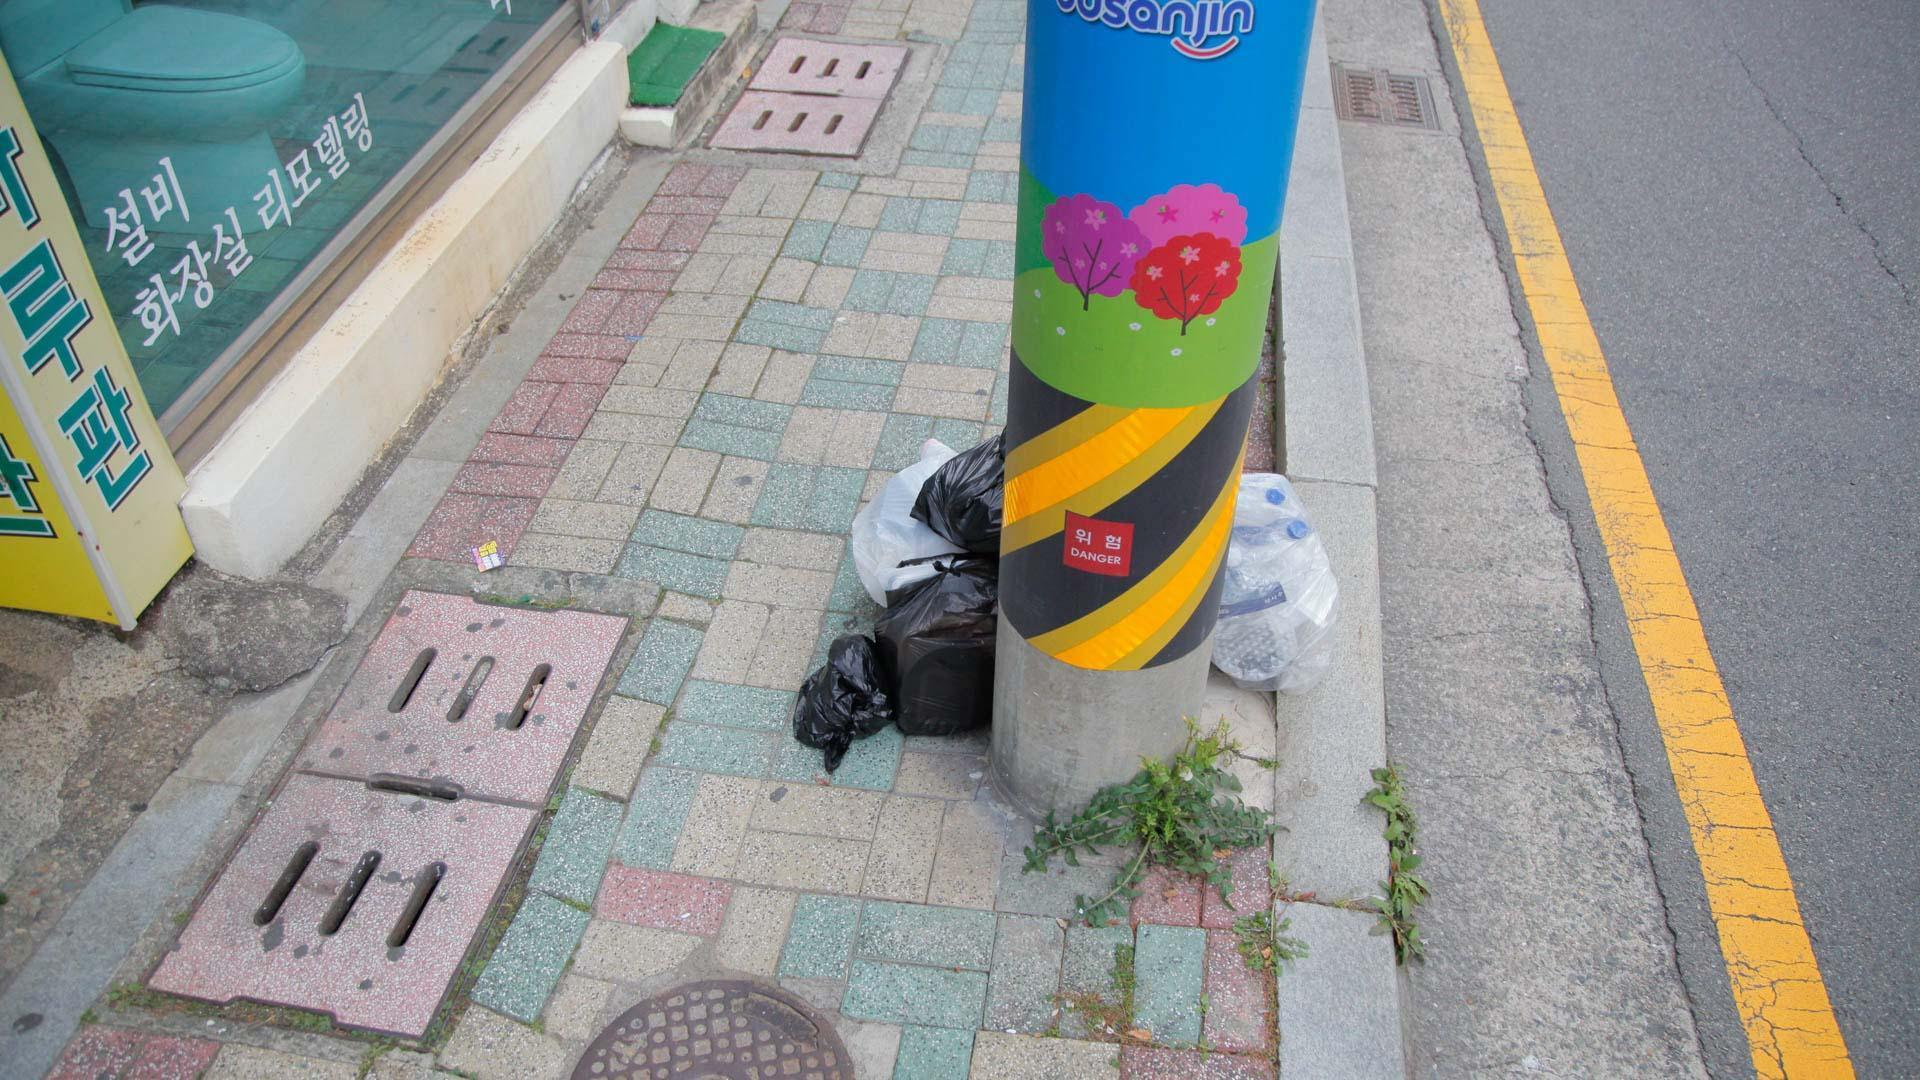black_bag: (872, 560, 1004, 738), (785, 630, 911, 781), (909, 433, 1007, 562)
white_bag: (1189, 458, 1348, 702), (840, 433, 992, 605)
